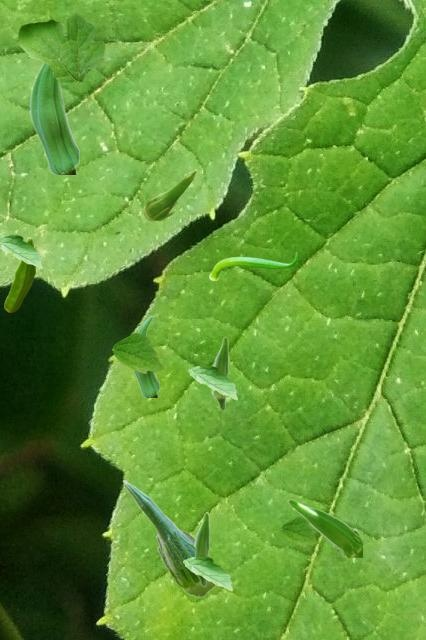okra: (122, 479, 216, 596), (29, 63, 78, 173), (287, 499, 361, 556), (143, 169, 196, 220), (209, 252, 296, 279), (4, 237, 34, 311), (133, 315, 158, 396), (211, 336, 228, 410), (194, 512, 209, 586)
